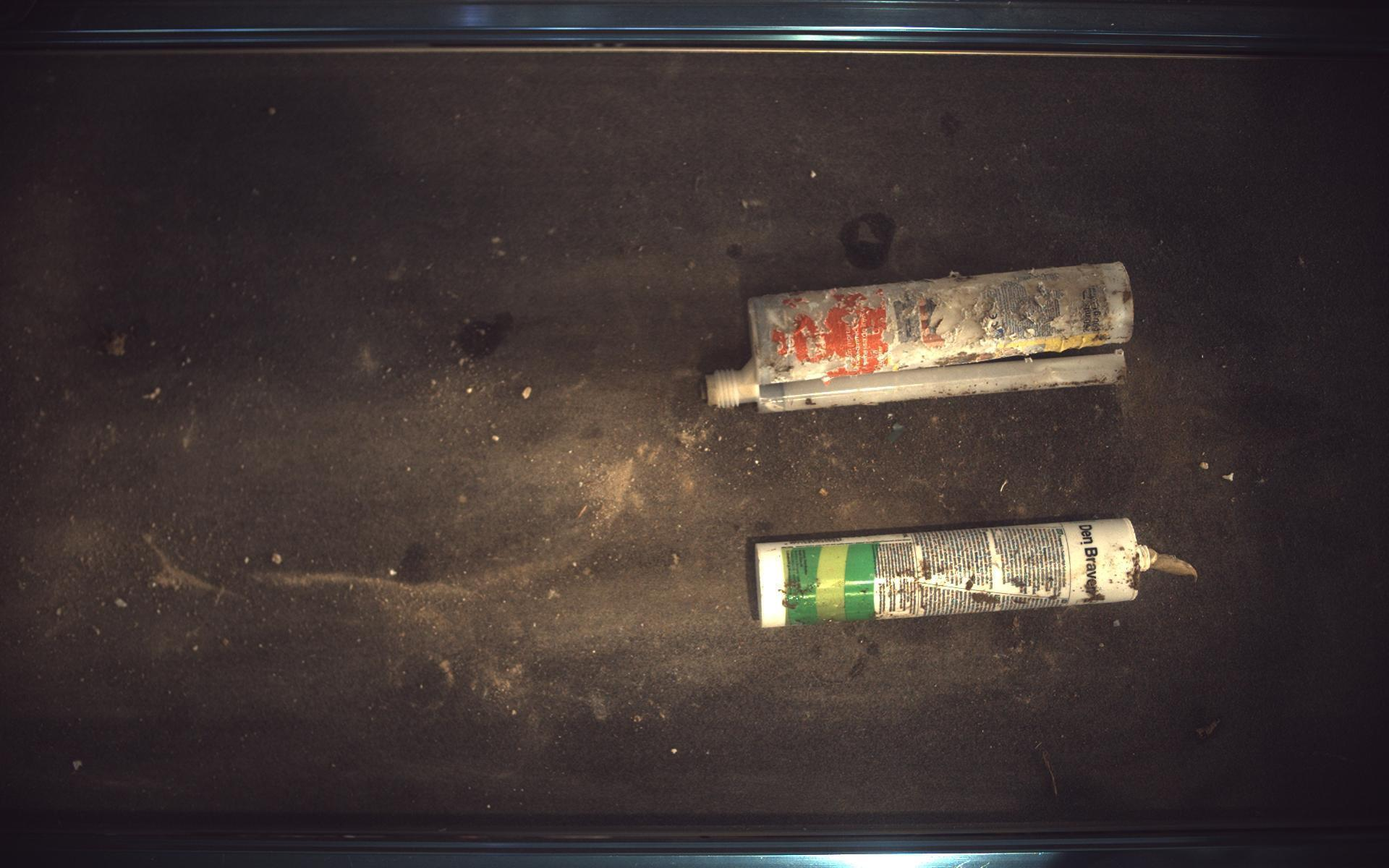plastic: (707, 262, 1136, 412), (756, 519, 1199, 629)
